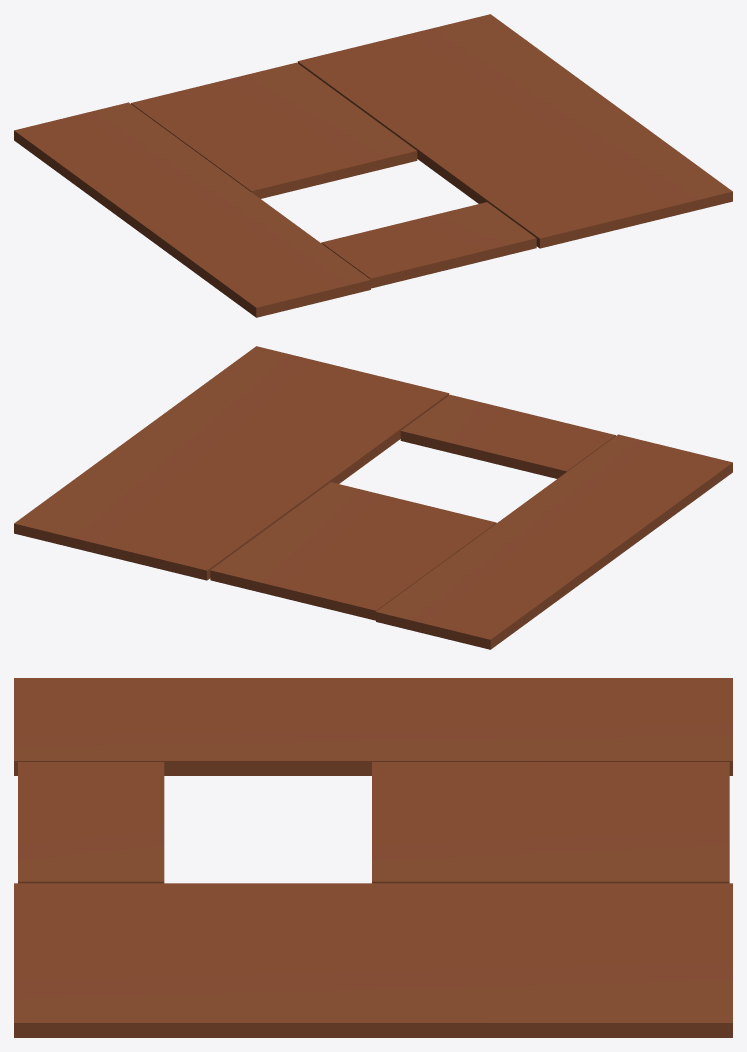
Rendered from First Floor with gap.fbx.
3 views of the same model, one above another, from view 1: azimuth 30°, elevation 25°; view 2: azimuth 150°, elevation 25°; view 3: azimuth 270°, elevation 25° (orthographic). The views are drawn at different scales.
Visible parts, largest first — view 1: First Floor with gap; view 2: First Floor with gap; view 3: First Floor with gap.
Part boxes in pixels (x1=…): First Floor with gap: x1=14, y1=14, x2=732, y2=317; First Floor with gap: x1=14, y1=346, x2=732, y2=649; First Floor with gap: x1=14, y1=678, x2=732, y2=1037.
Size of the model in its own units: 424 by 8.51 by 373.
